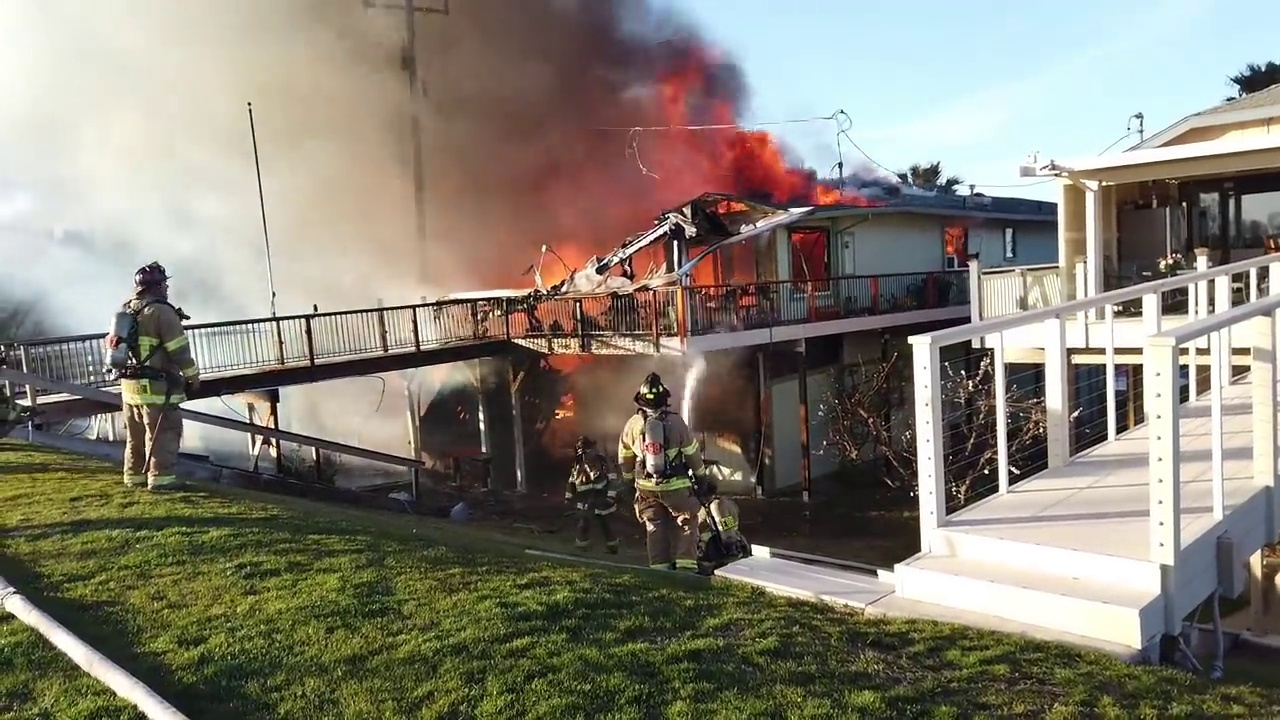fire: (531, 241, 580, 287), (684, 246, 717, 285), (816, 183, 871, 200), (551, 393, 577, 421), (947, 227, 966, 257), (1265, 235, 1279, 251)
smoke: (1, 1, 830, 228), (200, 230, 505, 298), (1, 231, 101, 338), (285, 379, 412, 448), (570, 355, 631, 417), (791, 234, 829, 288), (727, 241, 754, 283)
